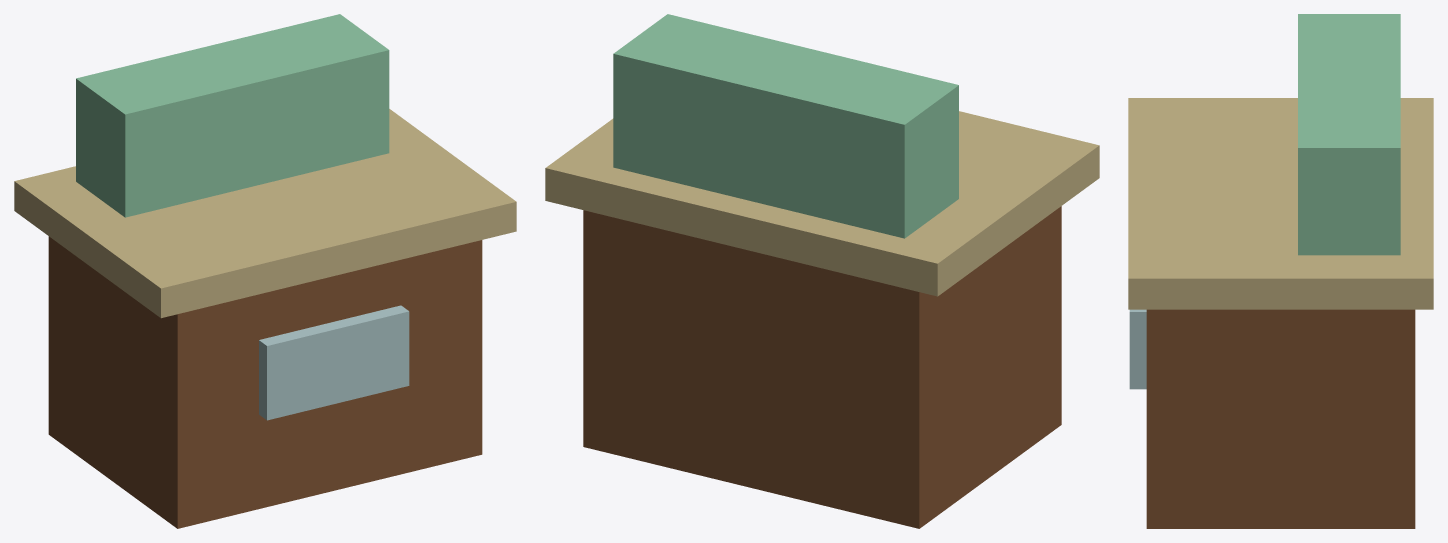
Rendered from study_desk.glb.
3 views of the same model, side by side, from view 1: azimuth 30°, elevation 25°; view 2: azimuth 150°, elevation 25°; view 3: azimuth 270°, elevation 25° (orthographic). The views are drawn at different scales.
Visible parts, largest first — view 1: body, functional_surface, upper, accent_panel; view 2: body, upper, functional_surface; view 3: body, functional_surface, upper, accent_panel.
Part boxes in pixels (bbox=[...]): body: bbox=[48, 236, 482, 528]; functional_surface: bbox=[14, 109, 516, 318]; upper: bbox=[76, 14, 389, 217]; accent_panel: bbox=[259, 305, 409, 420]; body: bbox=[583, 206, 1061, 528]; upper: bbox=[613, 14, 958, 238]; functional_surface: bbox=[545, 111, 1099, 296]; body: bbox=[1146, 309, 1415, 528]; functional_surface: bbox=[1128, 98, 1433, 309]; upper: bbox=[1298, 14, 1400, 255]; accent_panel: bbox=[1129, 309, 1146, 389].
Size of what is drawn, in the model's own units: 1.75 by 1.68 by 1.25.
